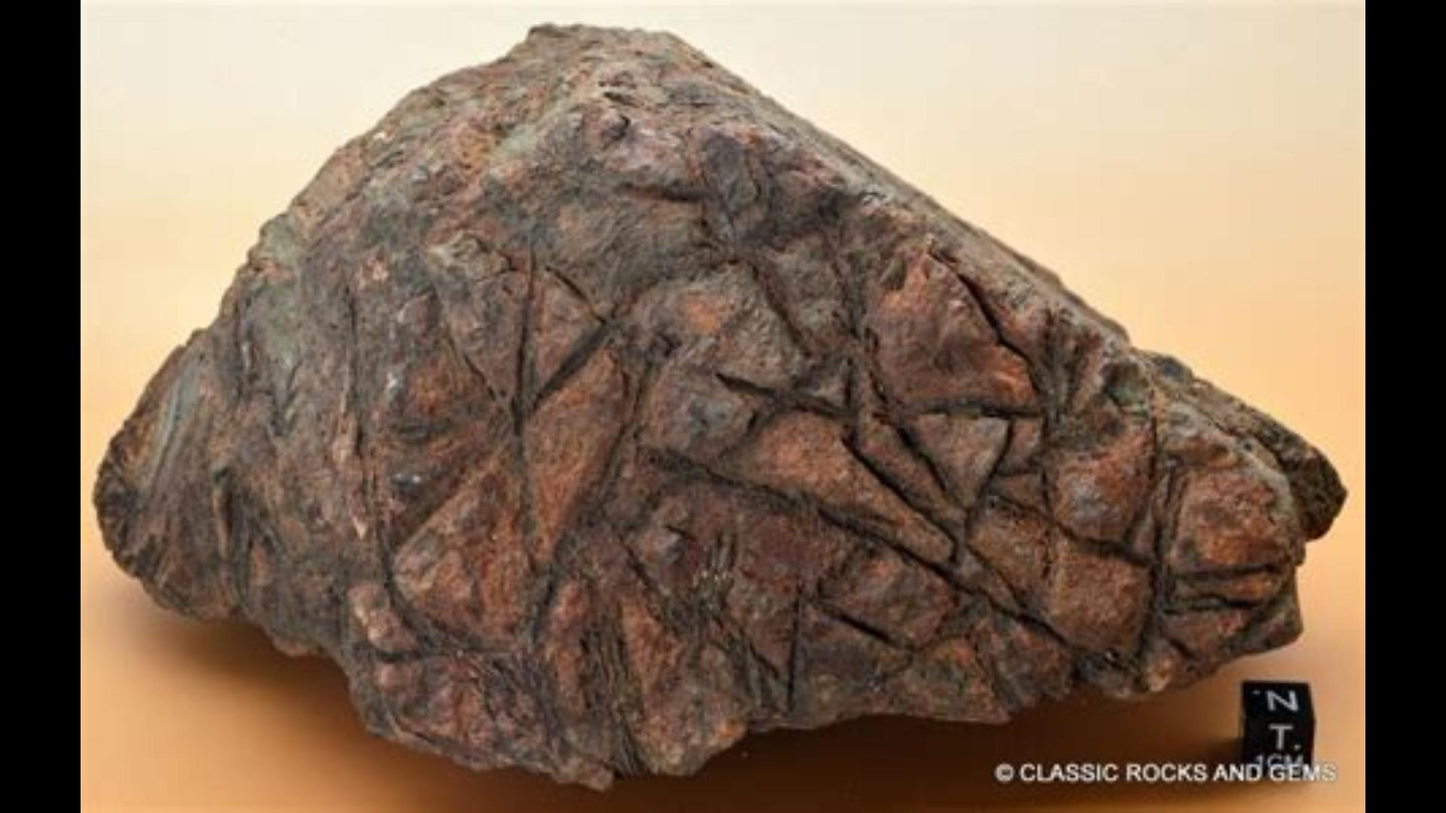rock: (94, 30, 1341, 783)
